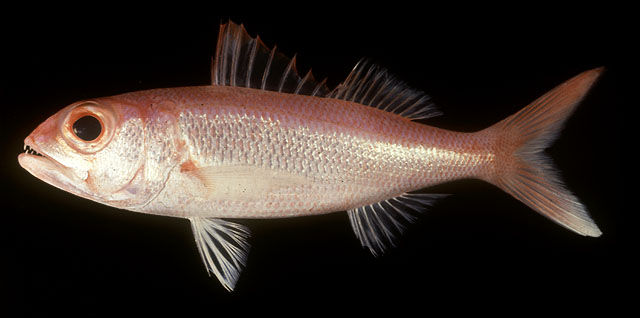fish: (16, 18, 605, 294)
